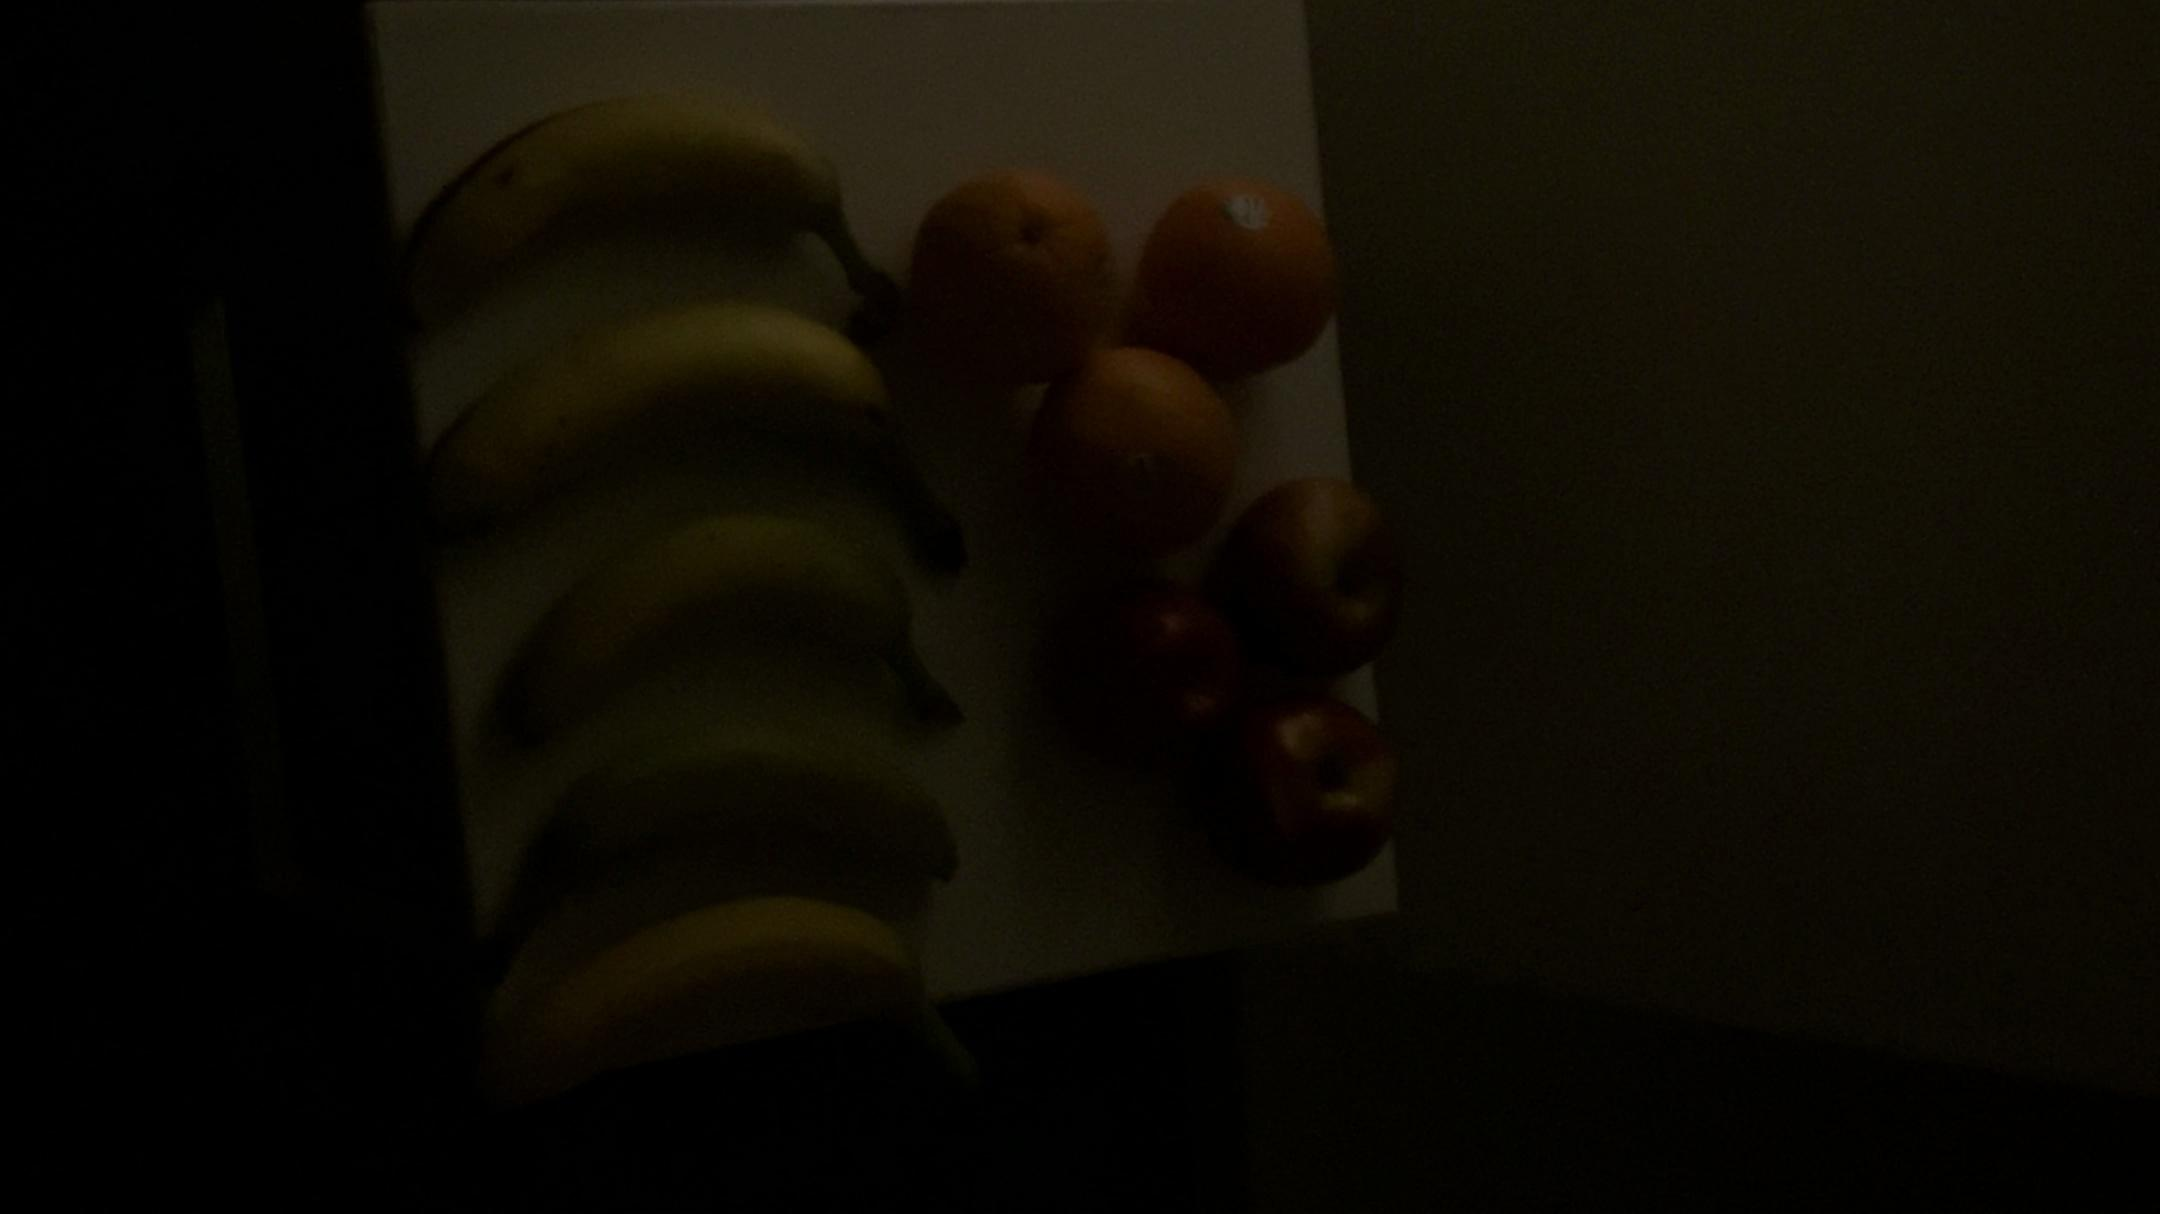apple: (1050, 580, 1252, 782), (1239, 469, 1408, 672), (1243, 686, 1405, 895)
banana: (395, 96, 900, 321), (405, 319, 932, 531), (455, 545, 969, 758), (433, 729, 984, 899), (475, 902, 949, 1095)
orange: (1127, 163, 1346, 374), (1018, 347, 1234, 549), (917, 157, 1104, 381)
